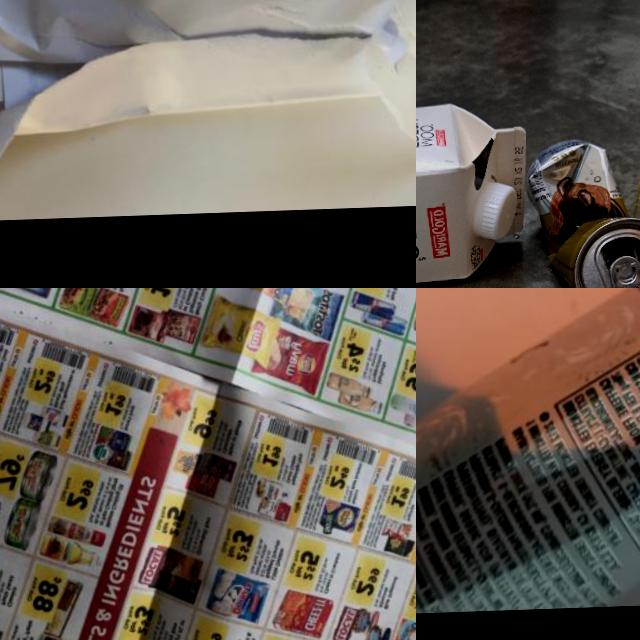aba de lata: (608, 255, 640, 288)
caixinha: (416, 102, 529, 288)
lata: (416, 288, 640, 616), (523, 134, 640, 288)
papel: (0, 288, 416, 640), (0, 0, 416, 176)
tampa plástica: (476, 183, 518, 240)
